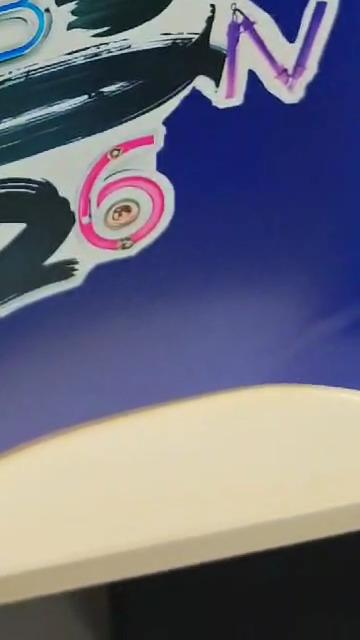B_R1: (0, 0, 343, 541)
